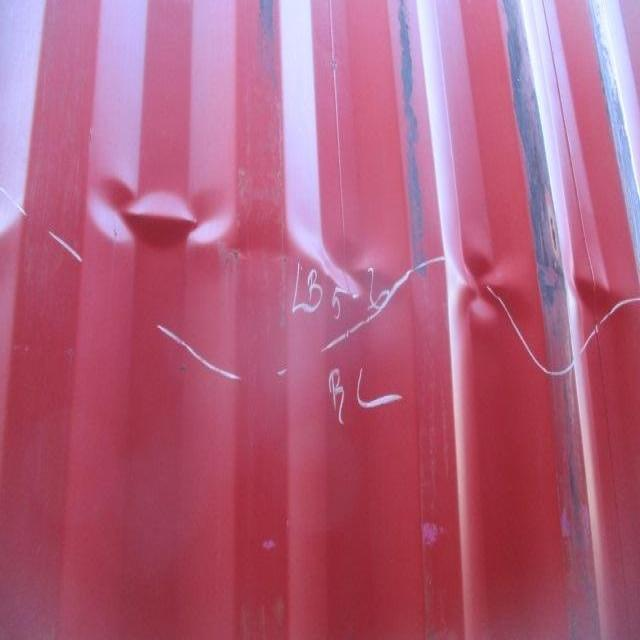dent: (89, 171, 637, 331)
